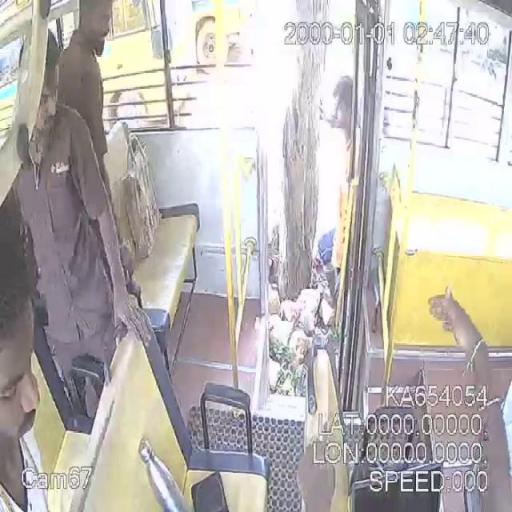persona: (12, 0, 154, 415), (0, 196, 48, 510)
